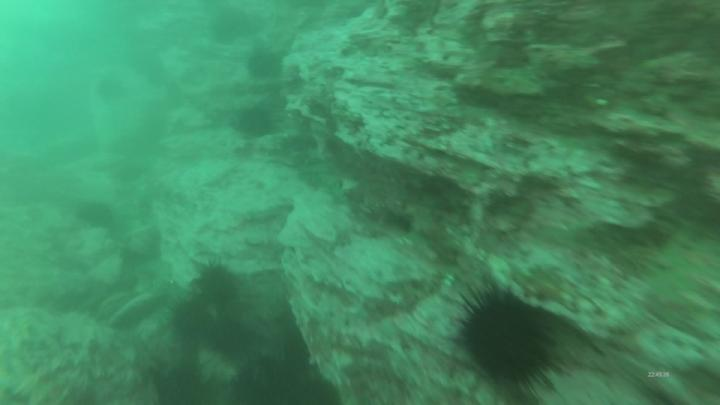echinus: (453, 282, 565, 401), (190, 260, 241, 312), (166, 297, 212, 343), (210, 314, 255, 355), (232, 105, 275, 143), (208, 10, 255, 44), (74, 199, 117, 234), (244, 52, 287, 83), (94, 77, 131, 105)
